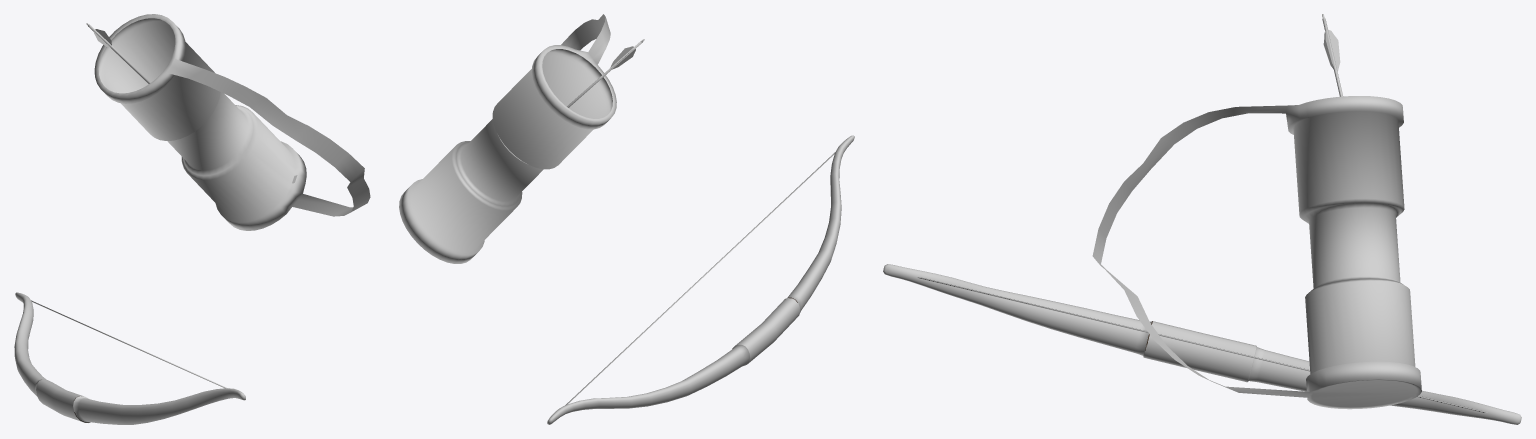
File: bow.obj
The picture shows the model from 3 angles, left to right: view 1: azimuth 30°, elevation 25°; view 2: azimuth 150°, elevation 25°; view 3: azimuth 270°, elevation 25°; orthographic projection. The views are drawn at different scales.
Visible parts, largest first — view 1: quive_Cylinder, bow_Cube, Arrow; view 2: quive_Cylinder, bow_Cube, Arrow; view 3: quive_Cylinder, bow_Cube, Arrow.
Part boxes in pixels (box(x1,y1,x2,y2)): quive_Cylinder: box(94, 14, 370, 230); bow_Cube: box(14, 292, 245, 424); Arrow: box(86, 23, 150, 83); quive_Cylinder: box(399, 14, 616, 263); bow_Cube: box(547, 135, 854, 424); Arrow: box(567, 39, 644, 107); quive_Cylinder: box(1092, 96, 1421, 409); bow_Cube: box(883, 264, 1521, 424); Arrow: box(1322, 14, 1343, 96).
Bounding box in the file's own units: 1.23 × 1.3 × 1.82.
